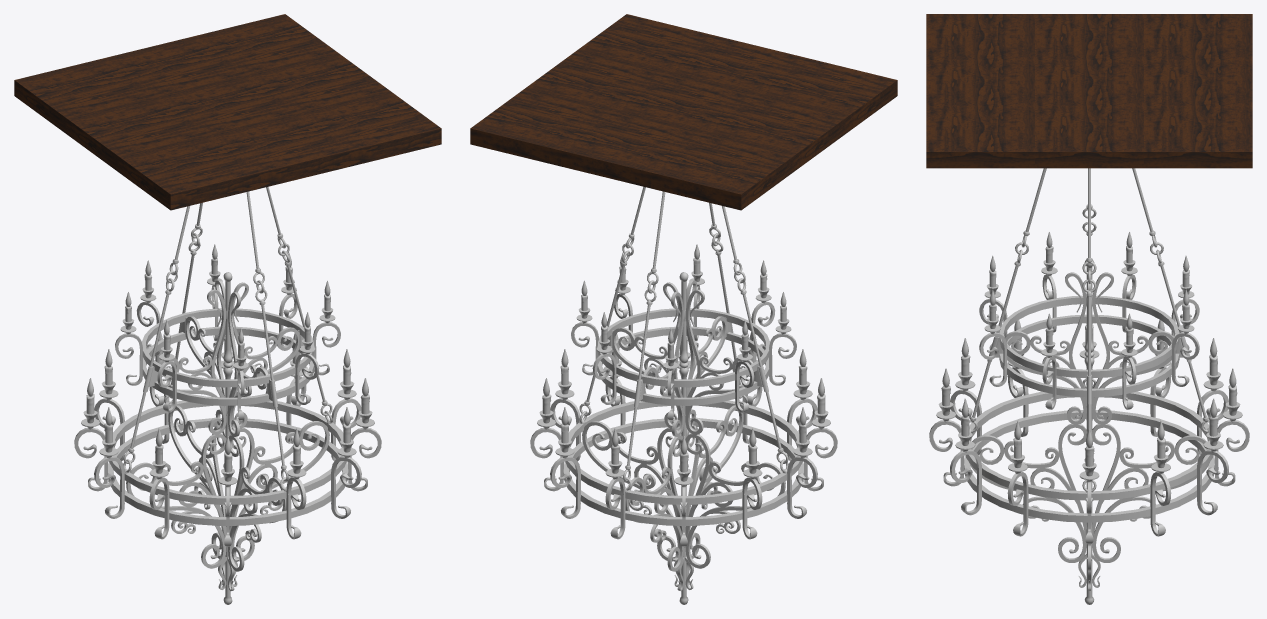
3 views of the same model, side by side, from view 1: azimuth 30°, elevation 25°; view 2: azimuth 150°, elevation 25°; view 3: azimuth 270°, elevation 25° (orthographic). The views are drawn at different scales.
Visible parts, largest first — view 1: Ceil_with_UV2, Ceil_with_UV7, Ceil_with_UV3, Ceil_with_UV1, Ceil_with_UV4, LP_Chandelier19, Ceil_with_UV, Ceil_with_UV5, Ceil_with_UV8, Ceil_with_UV6, LP_Chandelier34, Candle_holder (×6) (+7 smaller); view 2: Ceil_with_UV4, Ceil_with_UV8, Ceil_with_UV5, Ceil_with_UV1, Ceil_with_UV2, LP_Chandelier19, Ceil_with_UV, Ceil_with_UV3, Ceil_with_UV7, Ceil_with_UV6, LP_Chandelier34, Candle_holder (×6) (+7 smaller); view 3: Ceil_with_UV6, Ceil_with_UV7, Ceil_with_UV8, Candle_holder (×10), LP_Chandelier19, Ceil_with_UV, Ceil_with_UV1, Ceil_with_UV2, Ceil_with_UV3, Ceil_with_UV4, Ceil_with_UV5, LP_Chandelier35 (+5 smaller).
Part boxes in pixels (bbox=[...]): Ceil_with_UV2: bbox=[118, 134, 260, 210]; Ceil_with_UV7: bbox=[299, 90, 441, 166]; Ceil_with_UV3: bbox=[209, 112, 351, 188]; Ceil_with_UV1: bbox=[66, 96, 208, 171]; Ceil_with_UV4: bbox=[14, 58, 156, 133]; LP_Chandelier19: bbox=[142, 308, 314, 405]; Ceil_with_UV: bbox=[157, 74, 298, 134]; Ceil_with_UV5: bbox=[105, 36, 246, 95]; Ceil_with_UV8: bbox=[195, 14, 336, 73]; Ceil_with_UV6: bbox=[247, 52, 388, 112]; LP_Chandelier34: bbox=[126, 289, 226, 589]; Candle_holder (×6): bbox=[74, 427, 381, 539]; Ceil_with_UV4: bbox=[651, 134, 793, 210]; Ceil_with_UV8: bbox=[470, 90, 612, 166]; Ceil_with_UV5: bbox=[560, 112, 702, 188]; Ceil_with_UV1: bbox=[703, 96, 845, 171]; Ceil_with_UV2: bbox=[755, 58, 897, 133]; LP_Chandelier19: bbox=[597, 308, 769, 405]; Ceil_with_UV: bbox=[613, 74, 754, 134]; Ceil_with_UV3: bbox=[665, 36, 806, 95]; Ceil_with_UV7: bbox=[575, 14, 716, 73]; Ceil_with_UV6: bbox=[523, 52, 664, 112]; LP_Chandelier34: bbox=[685, 289, 785, 589]; Candle_holder (×6): bbox=[530, 427, 837, 539]; Ceil_with_UV6: bbox=[1035, 106, 1143, 168]; Ceil_with_UV7: bbox=[926, 106, 1034, 168]; Ceil_with_UV8: bbox=[1144, 106, 1252, 168]; Candle_holder (×10): bbox=[929, 332, 1249, 536]; LP_Chandelier19: bbox=[999, 295, 1179, 397]; Ceil_with_UV: bbox=[1035, 60, 1143, 105]; Ceil_with_UV1: bbox=[1035, 14, 1143, 59]; Ceil_with_UV2: bbox=[926, 14, 1034, 59]; Ceil_with_UV3: bbox=[926, 60, 1034, 105]; Ceil_with_UV4: bbox=[1144, 14, 1252, 59]; Ceil_with_UV5: bbox=[1144, 60, 1252, 105]; LP_Chandelier35: bbox=[969, 272, 1087, 587].
Size of the model in its own units: 3.53 by 6.23 by 3.53.
